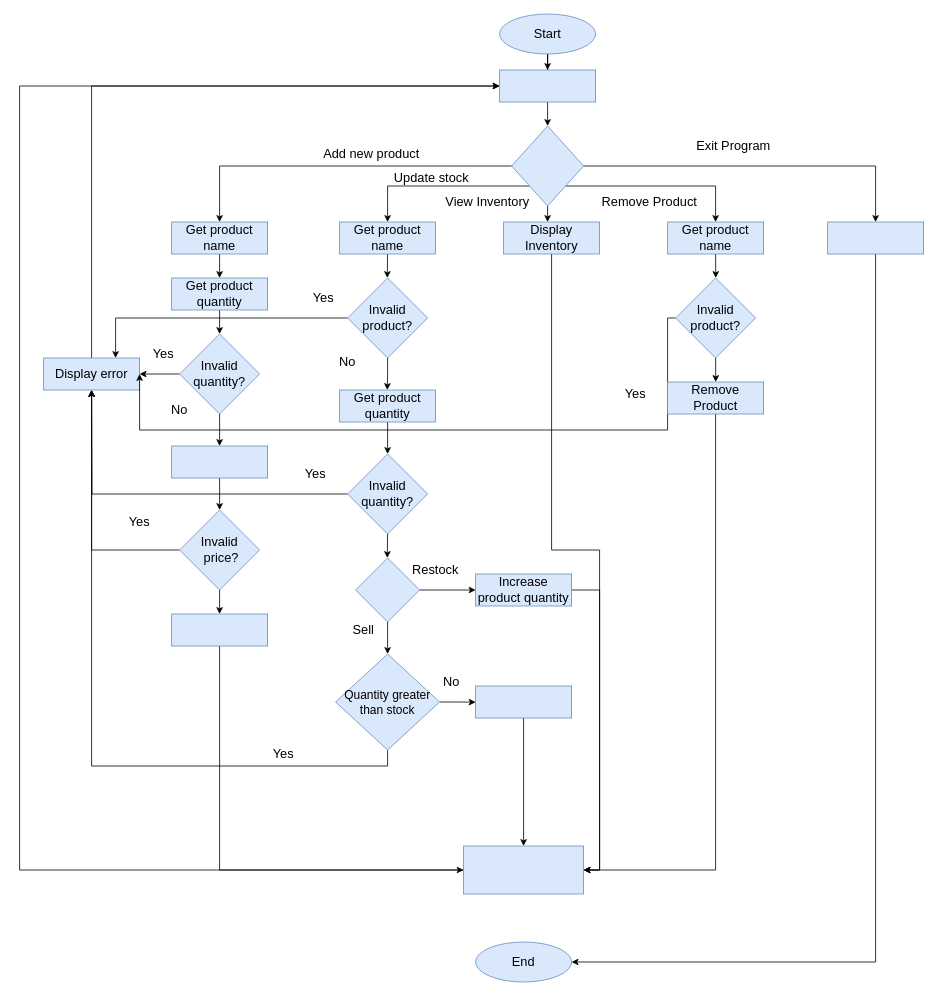
Some shapes in this 938 by 996 pixel diagram are drawn without their labels. Each missing label, with the centre of its shape:
"Add Product to Inventory" goes at point 219,629.
"Display activities" goes at point 547,85.
"Display Confirmation message" goes at point 523,869.
"Display Exit message" goes at point 875,237.
"Get product price" goes at point 219,461.
"Reduce product quantity" goes at point 523,701.
"Select activity" goes at point 547,165.
"Select option" goes at point 387,589.
